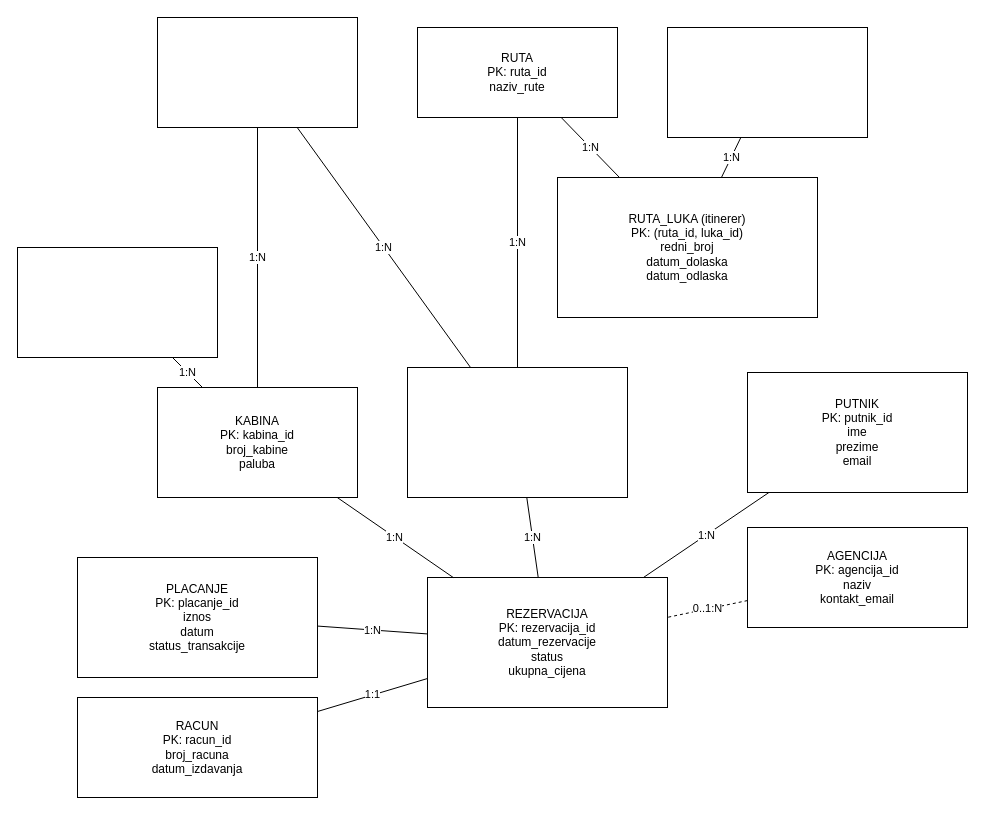
This 985x815 diagram has some shape labels left out. The centre of each missing label's shape, as x and y in pixels:
"KRUZER PK: kruzer_id naziv kapacitet_putnika" belongs at (257,72).
"LUKA PK: luka_id naziv drzava" belongs at (767,82).
"PUTOVANJE PK: putovanje_id datum_polaska datum_povratka osnovna_cijena" belongs at (517,432).
"TIP_KABINE PK: tip_kabine_id naziv max_osoba" belongs at (117,302).
